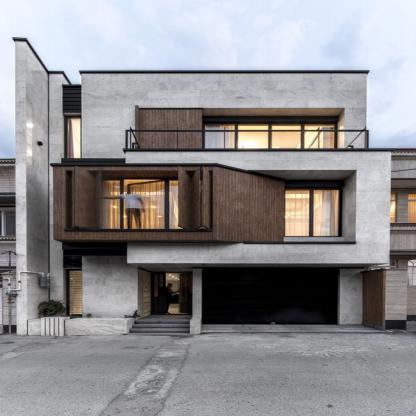Balcony: (125, 130, 370, 150)
Building Outline: (13, 37, 408, 334)
Door: (202, 268, 338, 324), (239, 125, 300, 155), (160, 272, 190, 313)
Facade: (12, 37, 409, 335)
Floor Slab: (53, 232, 356, 244), (126, 152, 390, 163)
Glass Wall: (77, 179, 210, 229), (285, 190, 339, 237), (204, 125, 234, 155), (305, 125, 335, 155)
Window: (66, 170, 213, 230), (247, 170, 357, 242), (69, 271, 84, 315), (68, 119, 81, 158)
